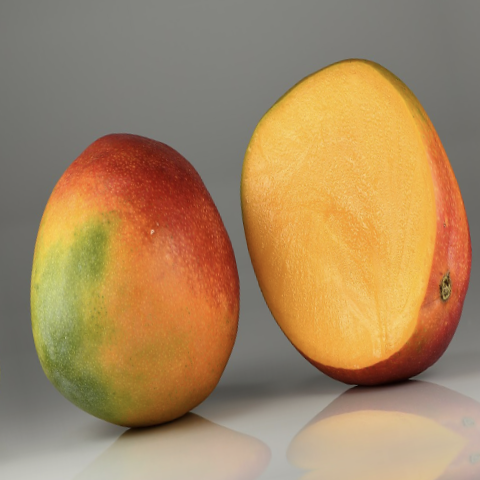mango: (210, 26, 480, 440), (0, 110, 274, 477)
